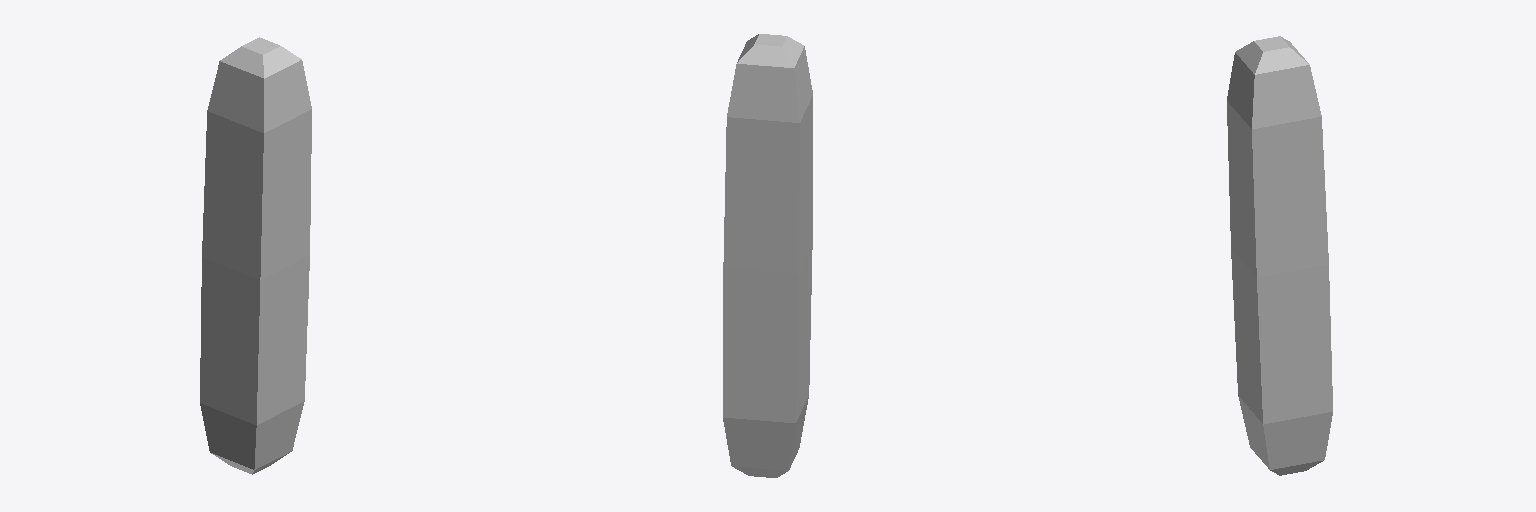
File: RightLeg.obj
3 renders of one model, left to right at view 1: azimuth 30°, elevation 25°; view 2: azimuth 150°, elevation 25°; view 3: azimuth 270°, elevation 25°, orthographic.
Visible parts, largest first — view 1: ../rami/model/RightLeg; view 2: ../rami/model/RightLeg; view 3: ../rami/model/RightLeg.
Boxes of the visible parts, <box> form: ../rami/model/RightLeg: <box>200,37,311,474</box>; ../rami/model/RightLeg: <box>723,34,812,477</box>; ../rami/model/RightLeg: <box>1227,36,1332,475</box>.
Bounding box in the file's own units: 0.0881 × 0.4223 × 0.0956.